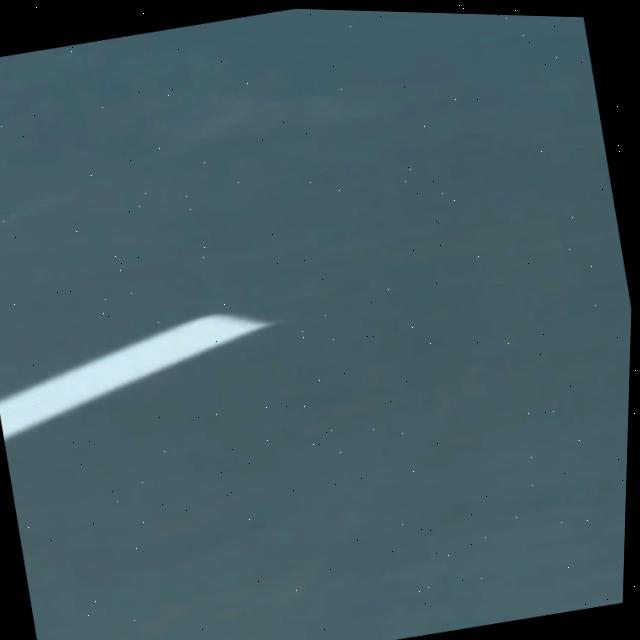center: (0, 314, 275, 440)
